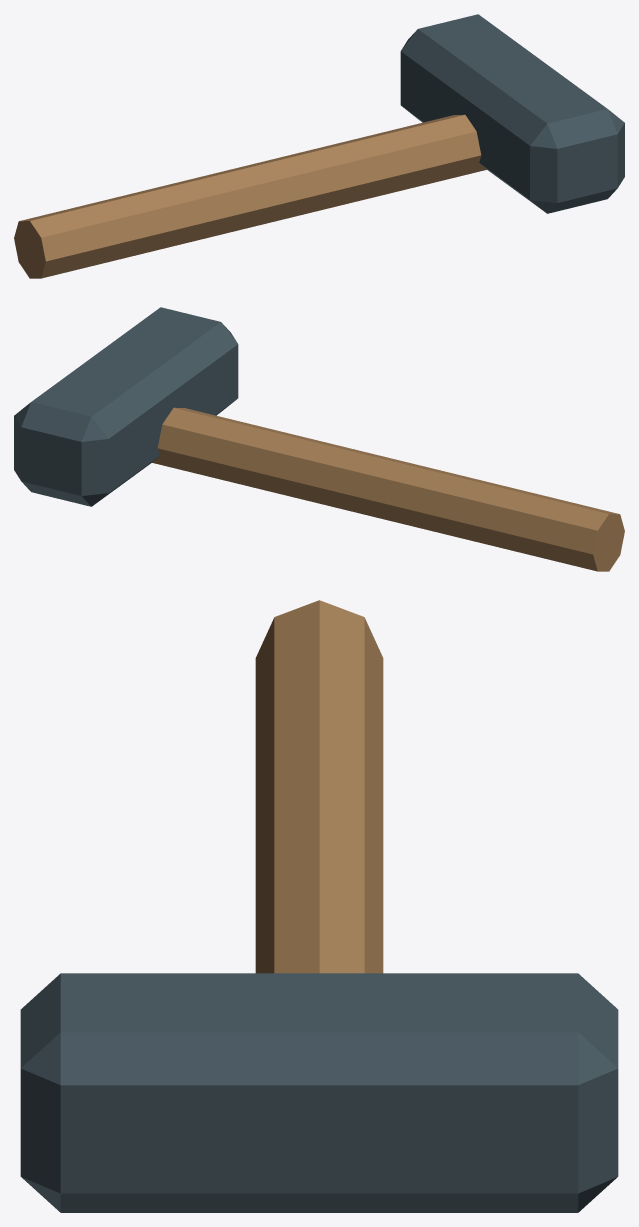
File: set_hand_fork.glb
The picture shows the model from 3 angles, top to bottom: view 1: azimuth 30°, elevation 25°; view 2: azimuth 150°, elevation 25°; view 3: azimuth 270°, elevation 25°; orthographic projection. The views are drawn at different scales.
Visible parts, largest first — view 1: set_hand_fork; view 2: set_hand_fork; view 3: set_hand_fork.
Boxes of the visible parts, x1=… form: set_hand_fork: x1=14, y1=14, x2=624, y2=278; set_hand_fork: x1=14, y1=307, x2=624, y2=571; set_hand_fork: x1=20, y1=600, x2=618, y2=1212.
Size of the model in its own units: 0.3075 by 0.051 by 0.15.
